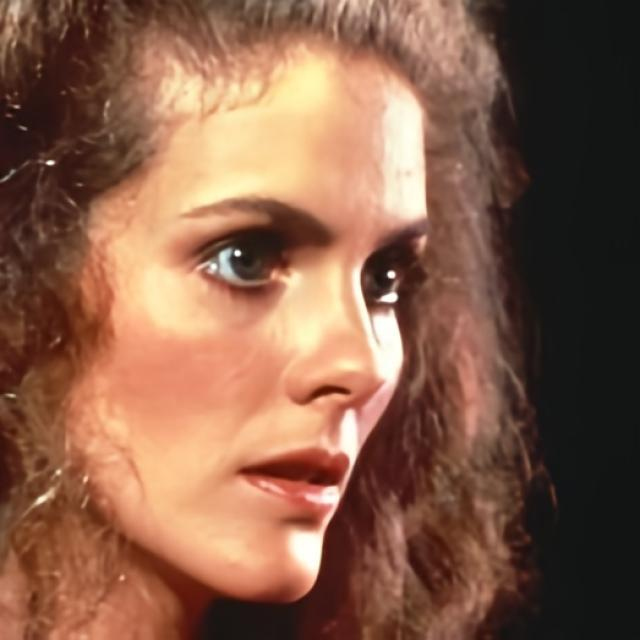fear: (57, 39, 440, 597)
